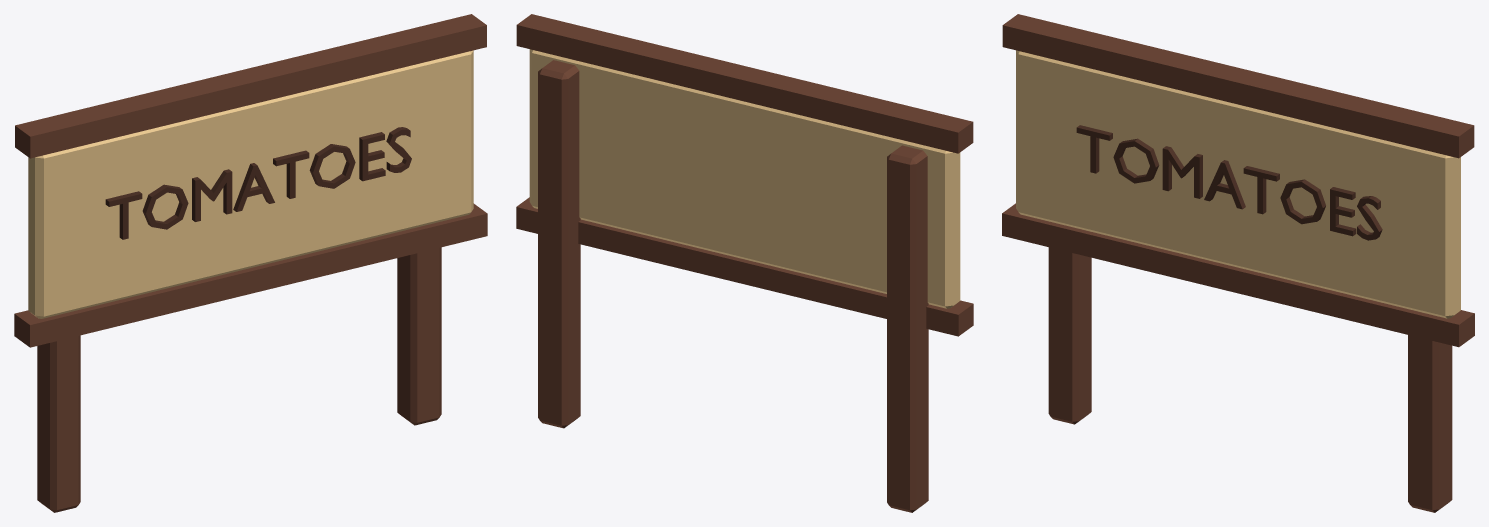
Rendered from Sign_Board_Crops.fbx.
3 renders of one model, left to right at view 1: azimuth 30°, elevation 25°; view 2: azimuth 150°, elevation 25°; view 3: azimuth 330°, elevation 25°, orthographic. The views are drawn at different scales.
Parts seen in each view (by area): view 1: Sign_Board_Crops; view 2: Sign_Board_Crops; view 3: Sign_Board_Crops.
Part boxes in pixels (box(x1,y1,x2,y2)): Sign_Board_Crops: box(14, 14, 487, 512); Sign_Board_Crops: box(516, 14, 973, 512); Sign_Board_Crops: box(1002, 14, 1474, 512).
Size of the model in its own units: 1.57 by 1.3 by 0.1837.
